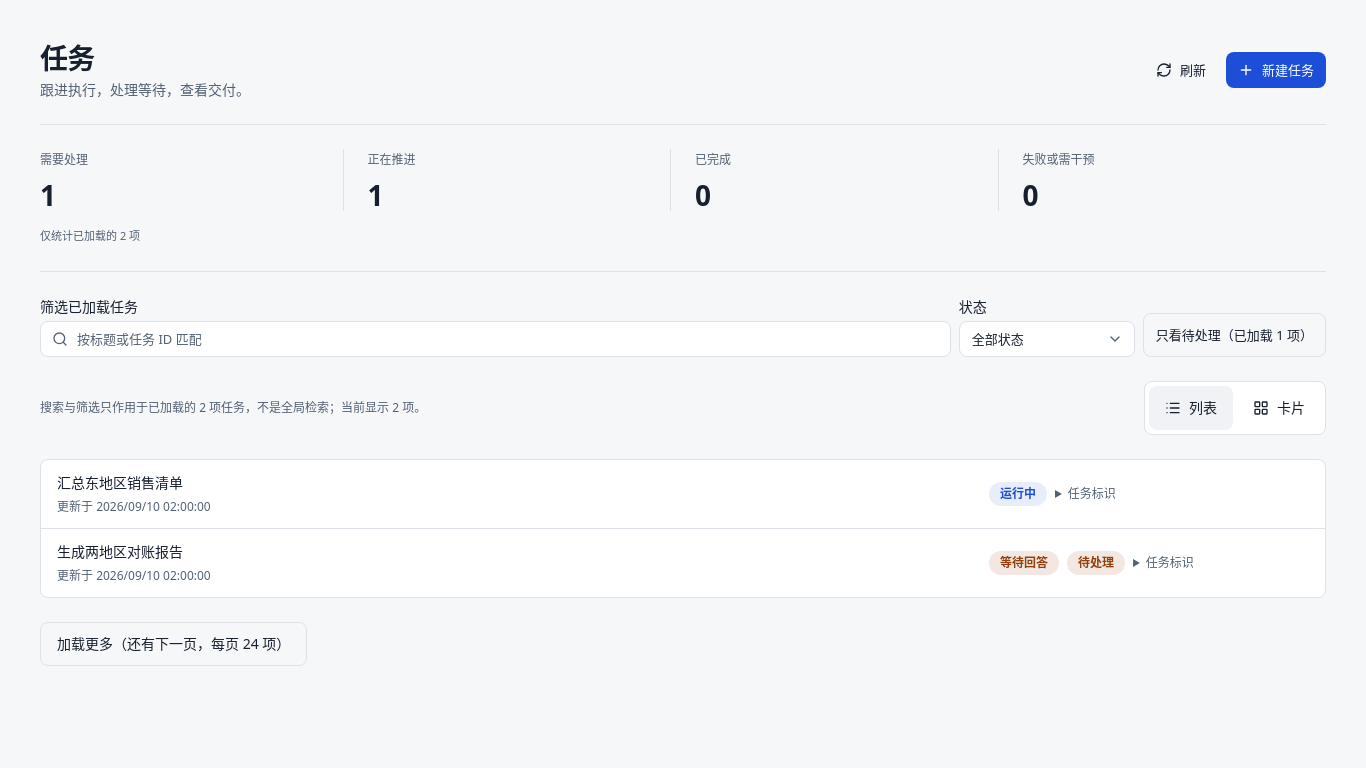
Test: TaskListView › 局部筛选只作用于已加载项；无匹配时明确说明范围
Expected: the text "汇总东地区销售清单" is shown, [57,473,183,492]
Type "不存在的词" into the field labelled "筛选已加载任务". click: [495, 339]
box: [40,321,951,357]
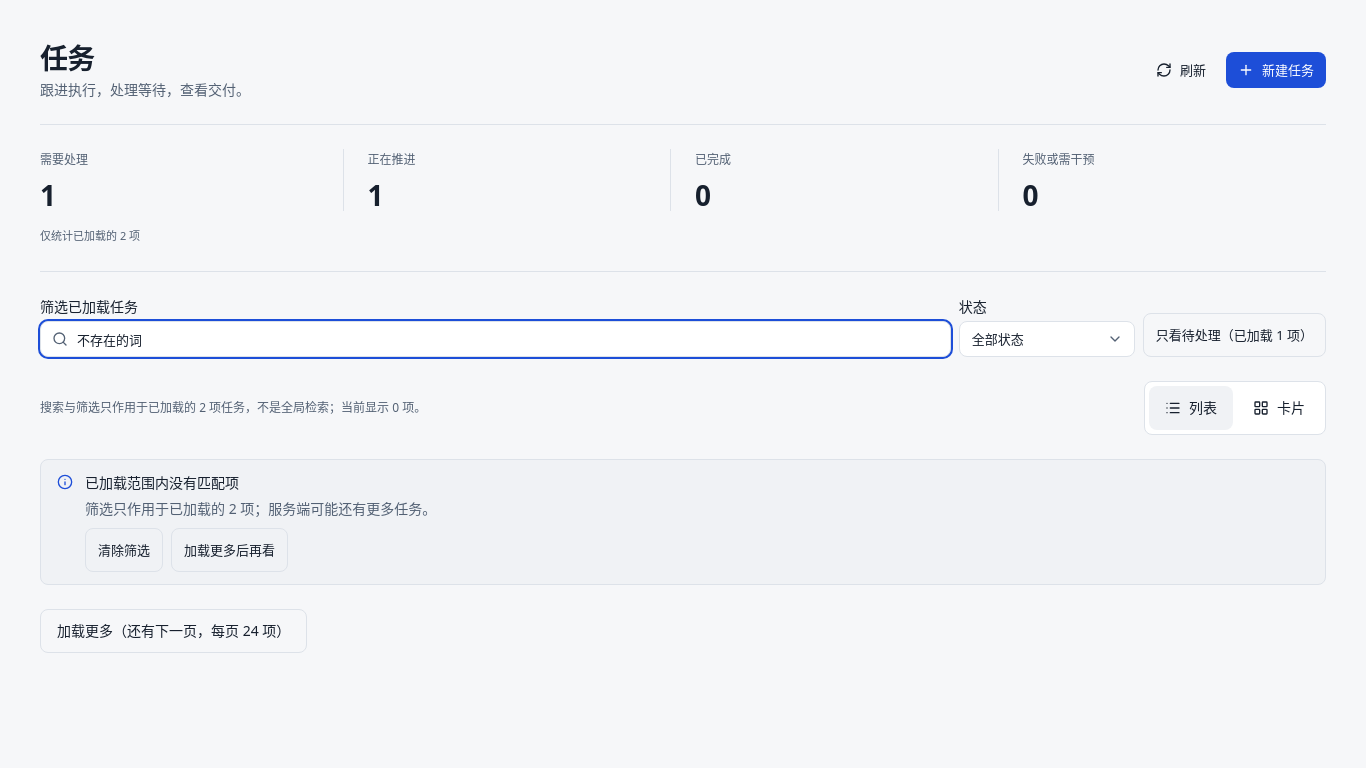
Now the text "已加载范围内没有匹配项" is shown, box [85,473,239,492]
Now the text "筛选只作用于已加载的 2 项；服务端可能还有更多任务。 清除筛选 加载更多后再看" is shown, box [85,499,436,572]
Click the button "卡片". click: [1279, 408]
box: [1237,386,1321,430]
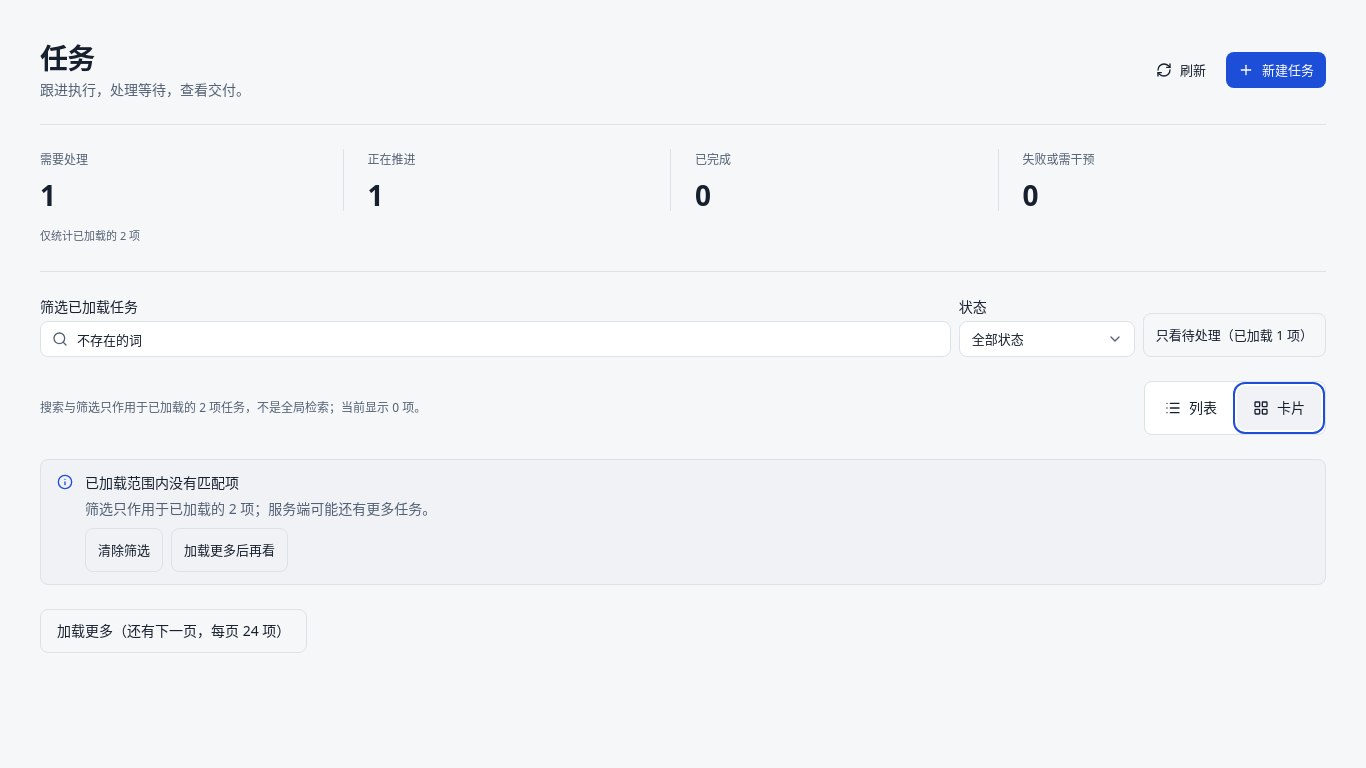
Now the text "已加载范围内没有匹配项" is shown, box [85,473,239,492]
Replace the text in the field labelled "筛选已加载任务" with "东地区". click: [495, 339]
box: [40,321,951,357]
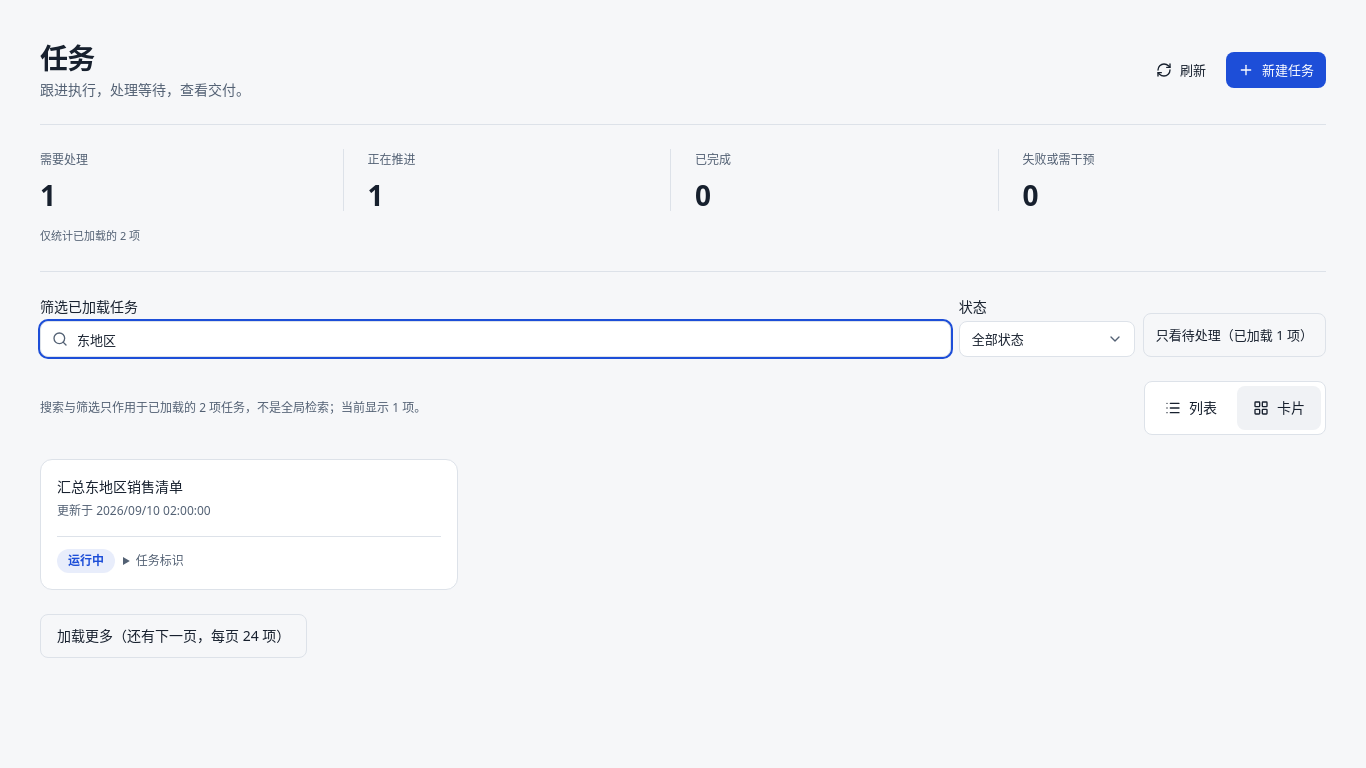
Expected: the link "生成两地区对账报告" is not shown
Now the text "汇总东地区销售清单" is shown, box [57,477,183,496]
Clear the field labelled "筛选已加载任务". click: [495, 339]
box: [40,321,951,357]
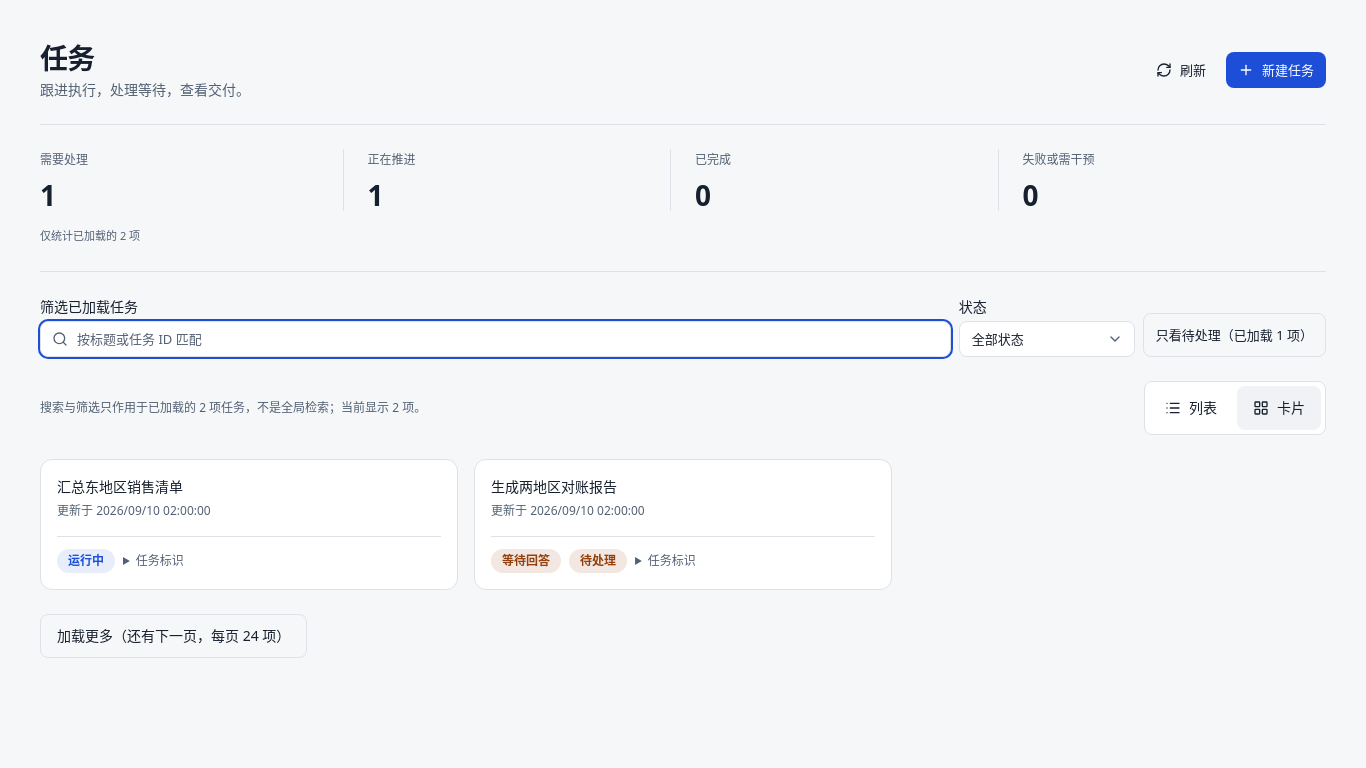
Select "已取消（cancelled）" in the dropdown labelled "状态". click: [1047, 339]
box: [959,321,1135,357]
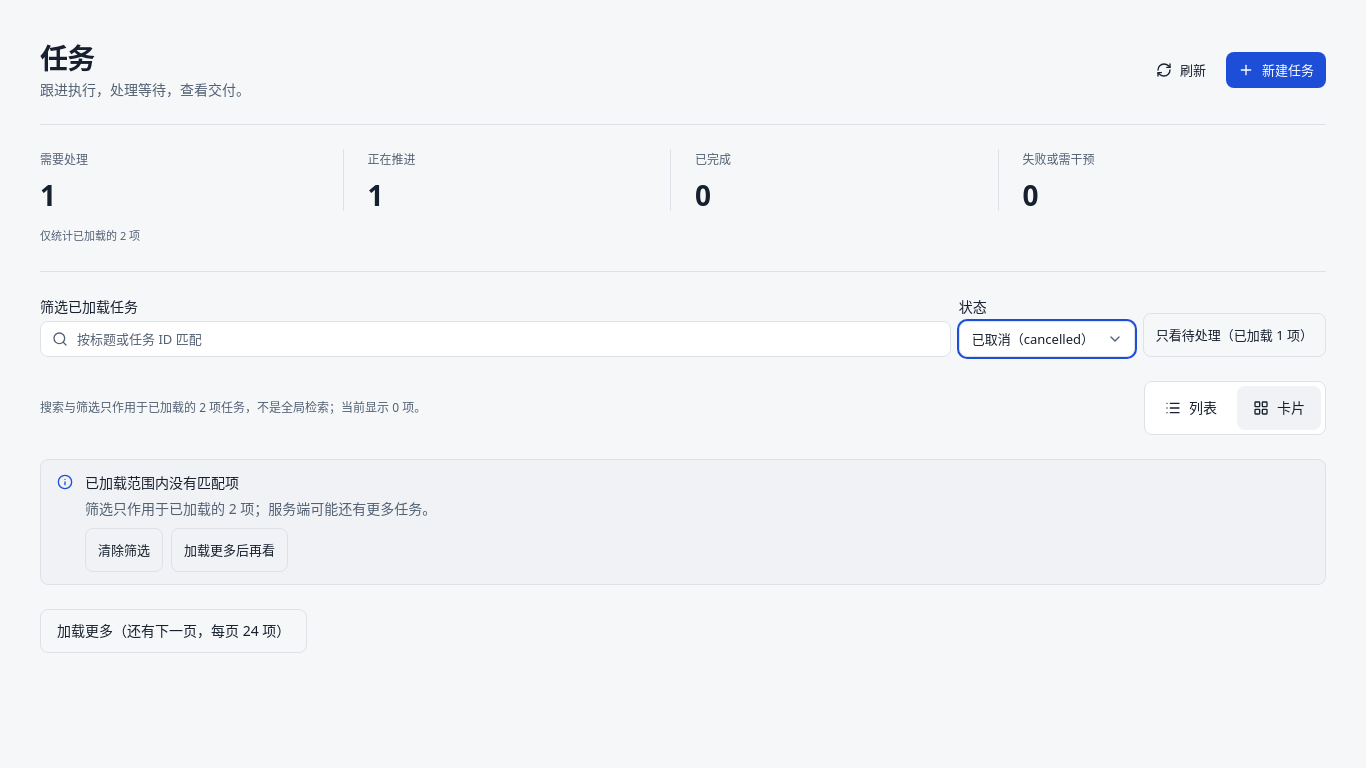
Now the text "已加载范围内没有匹配项" is shown, box [85,473,239,492]
Click the button "清除筛选". click: [124, 550]
box: [85,528,163,572]
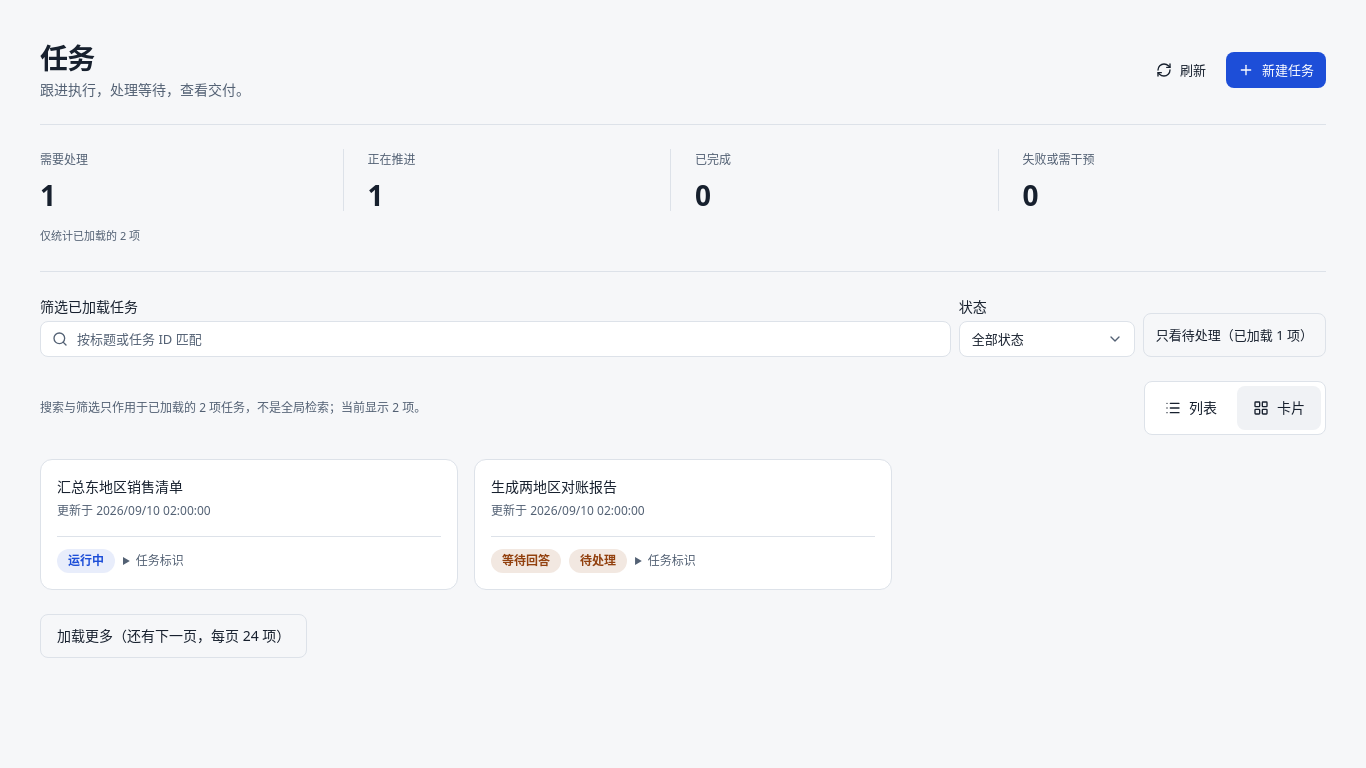
Now the text "汇总东地区销售清单" is shown, box [57,477,183,496]
